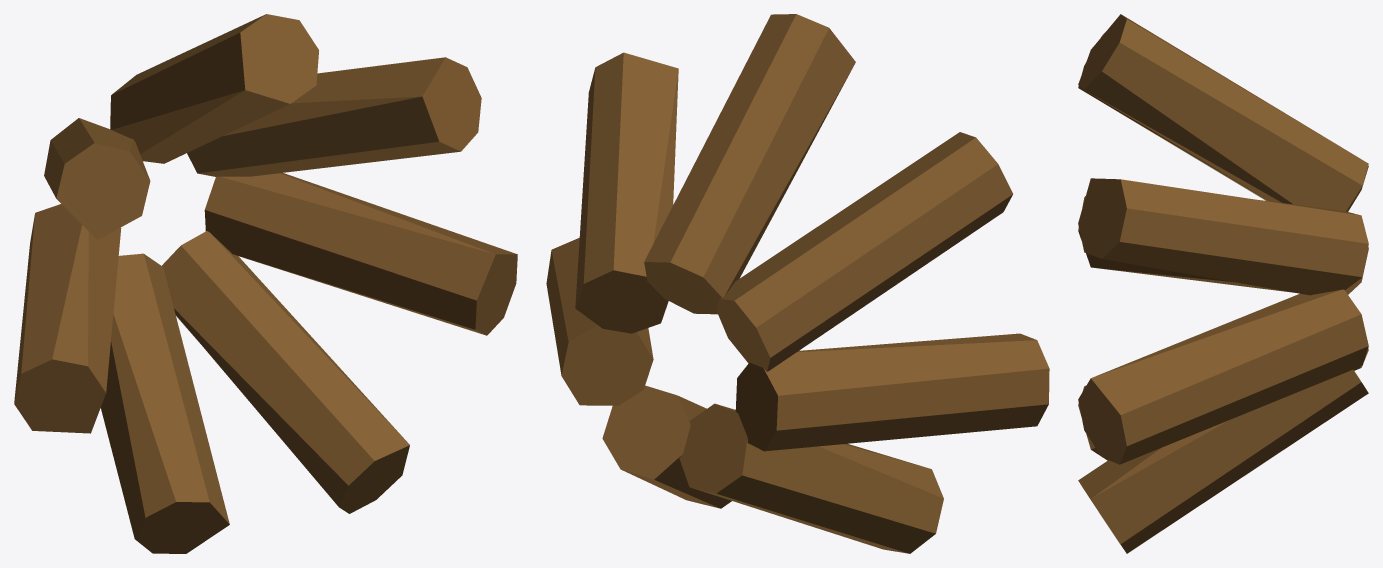
The model's file is Кострище.fbx.
3 renders of one model, left to right at view 1: azimuth 30°, elevation 25°; view 2: azimuth 150°, elevation 25°; view 3: azimuth 270°, elevation 25°, orthographic. The views are drawn at different scales.
Visible parts, largest first — view 1: Бревна; view 2: Бревна; view 3: Бревна.
Boxes of the visible parts, bbox=[...] form: Бревна: bbox=[14, 14, 517, 553]; Бревна: bbox=[546, 14, 1049, 553]; Бревна: bbox=[1078, 14, 1368, 553].
Bounding box in the file's own units: 635 × 625 × 337.
